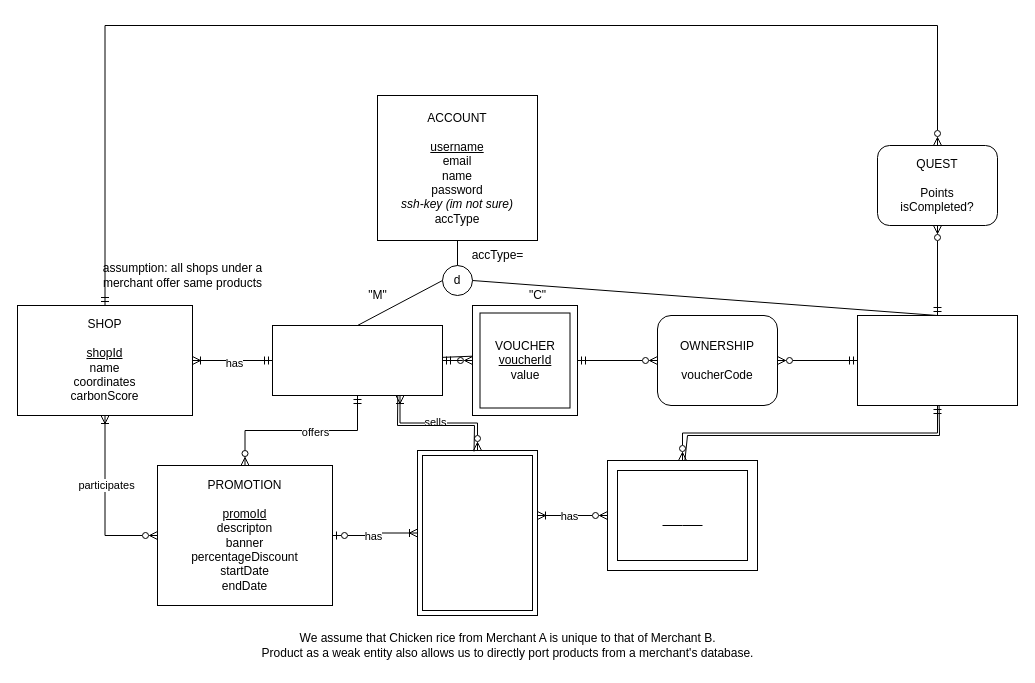
The diagram is 1035 pixels wide and 683 high, and some of its shapes have lost their labels. Each missing label, with the centre of its shape:
CUST_ACCOUNT greenPts {preferences}: point 937,360
MERCHANT_ACCOUNT company [merchantCarbonRating]: point 357,360
PRODUCT productId price picture description carbonFootprint: point 477,532
PURCHASE datetime quantity: point 682,515
